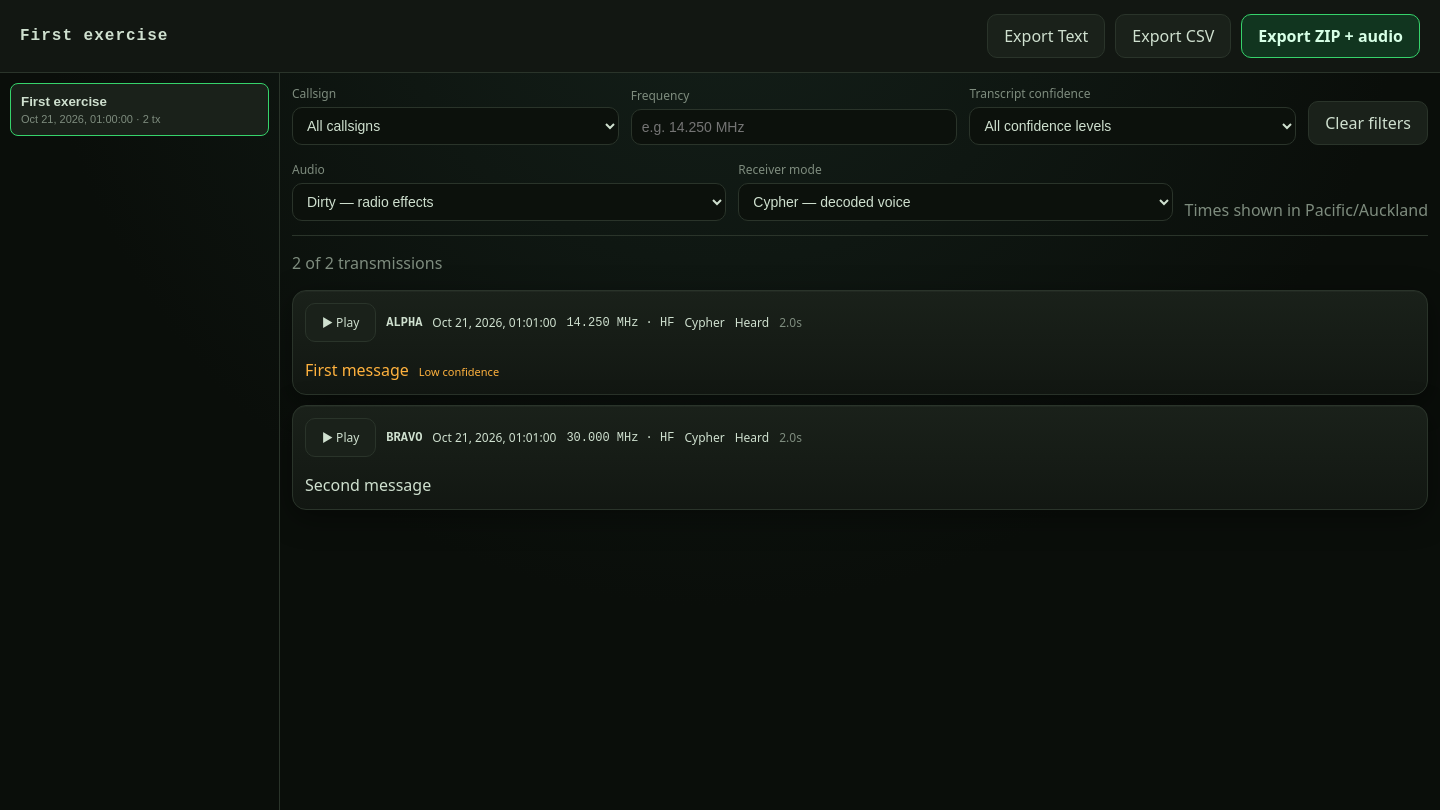
Test: AarReview › plays only one recording, supplies native seek controls and switches render modes
The width and height of the screenshot is (1440, 810).
Expected: the text "First message" is shown, 305,359 -> 409,381
Click the button with aria-label "Play recording from ALPHA" at [341, 322], box 305,303 -> 376,342
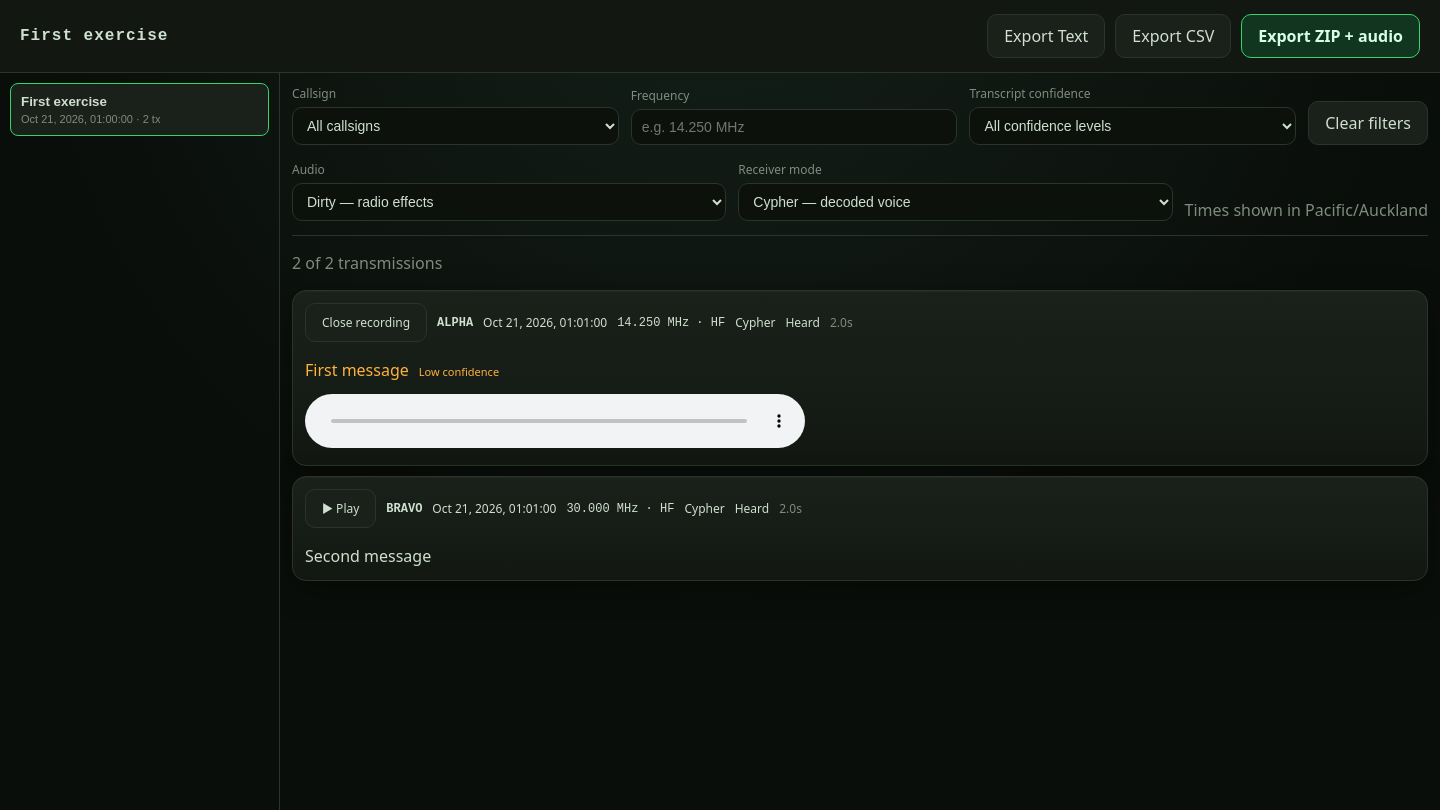
Select "Clean — original microphone" in the dropdown named "Playback audio" at [509, 202], box 292,183 -> 726,221
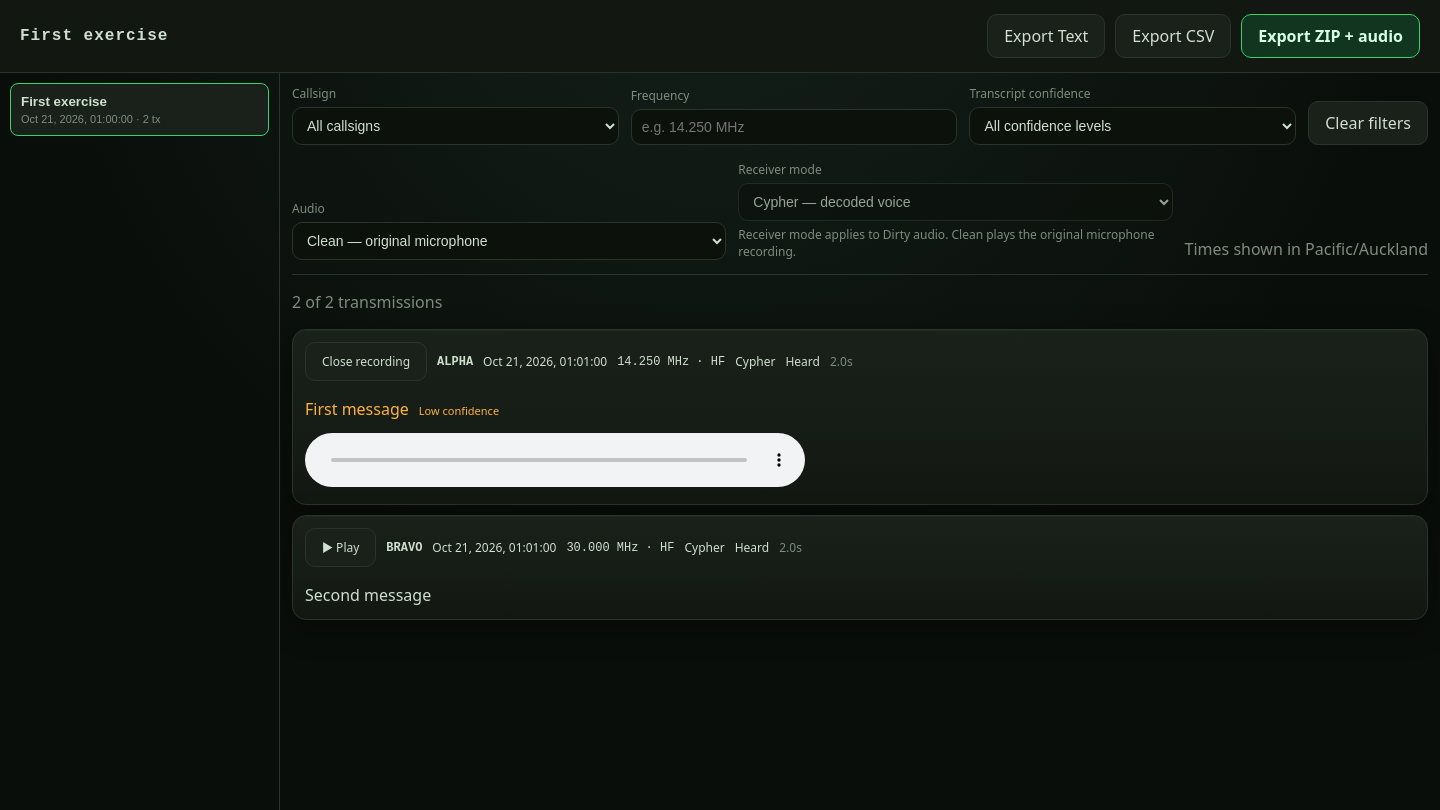
Expected: the dropdown named "Playback receiver mode" is disabled, 738,183 -> 1173,221
Expected: the text "Receiver mode applies to Dirty audio" is shown, 738,226 -> 1154,260
Select "Dirty — radio effects" in the dropdown named "Playback audio" at [509, 241], box 292,222 -> 726,260
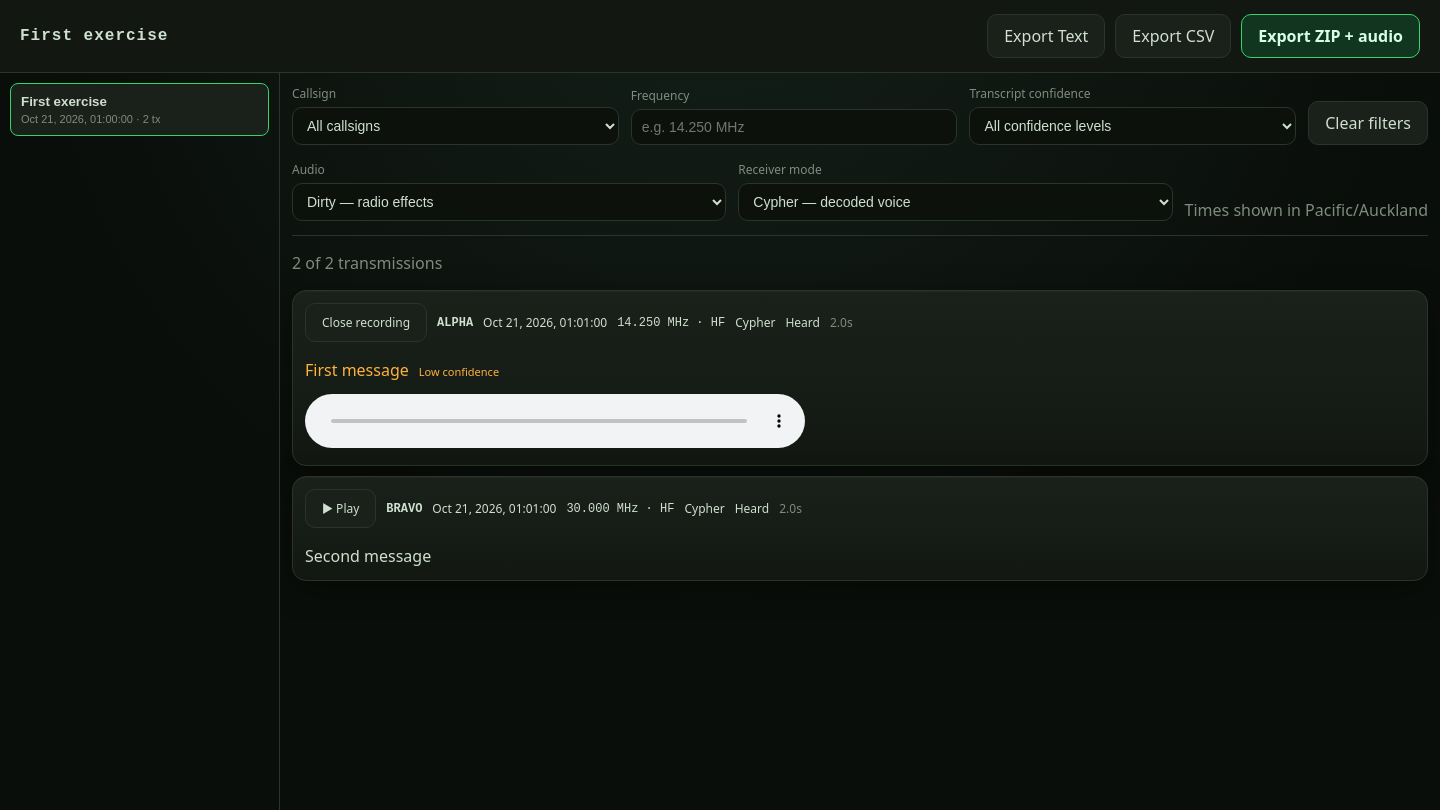
Expected: the dropdown named "Playback receiver mode" is enabled
Select "Plain — cypher heard as hash" in the dropdown named "Playback receiver mode" at [955, 202], box 738,183 -> 1173,221
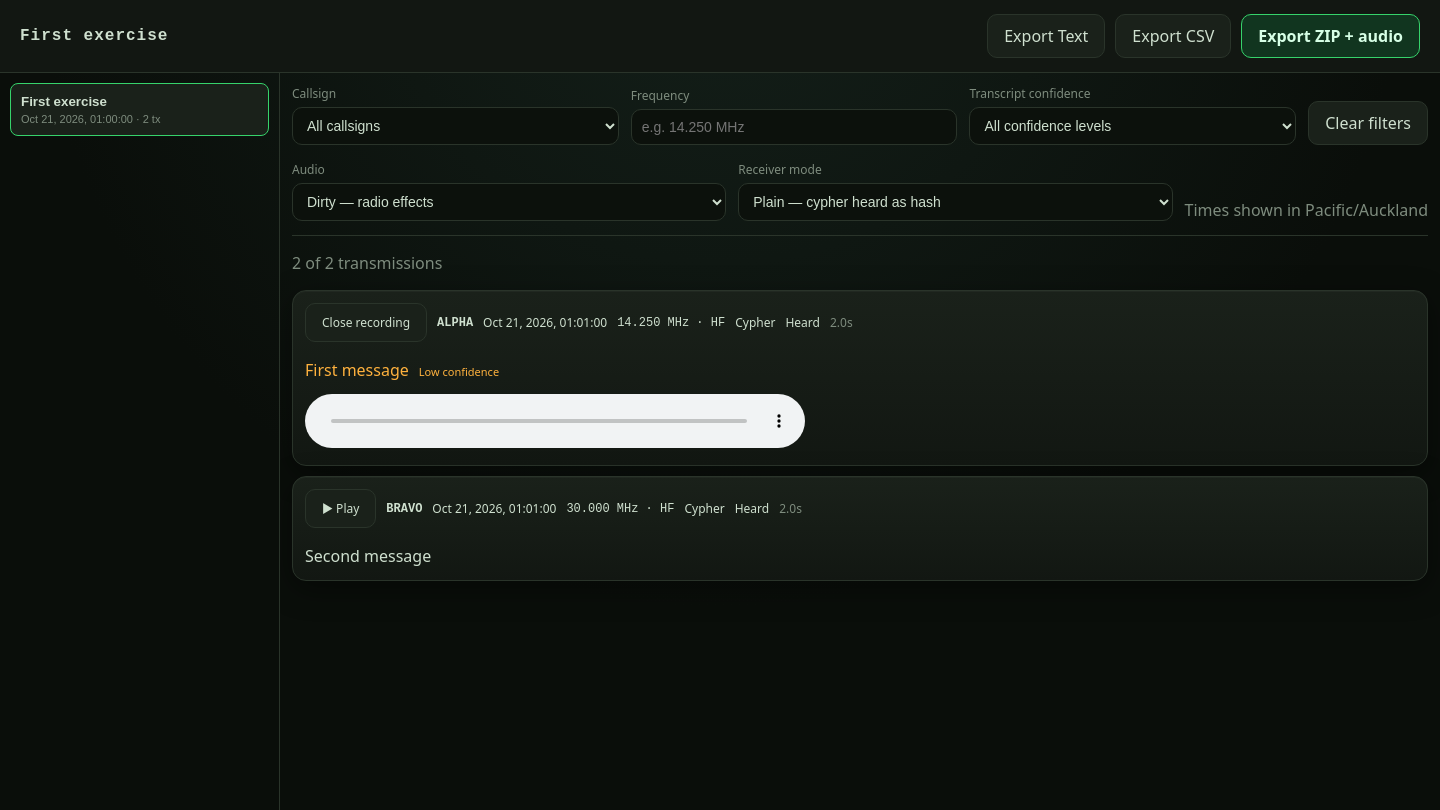
Click the button with aria-label "Play recording from BRAVO" at [341, 508], box 305,489 -> 376,528
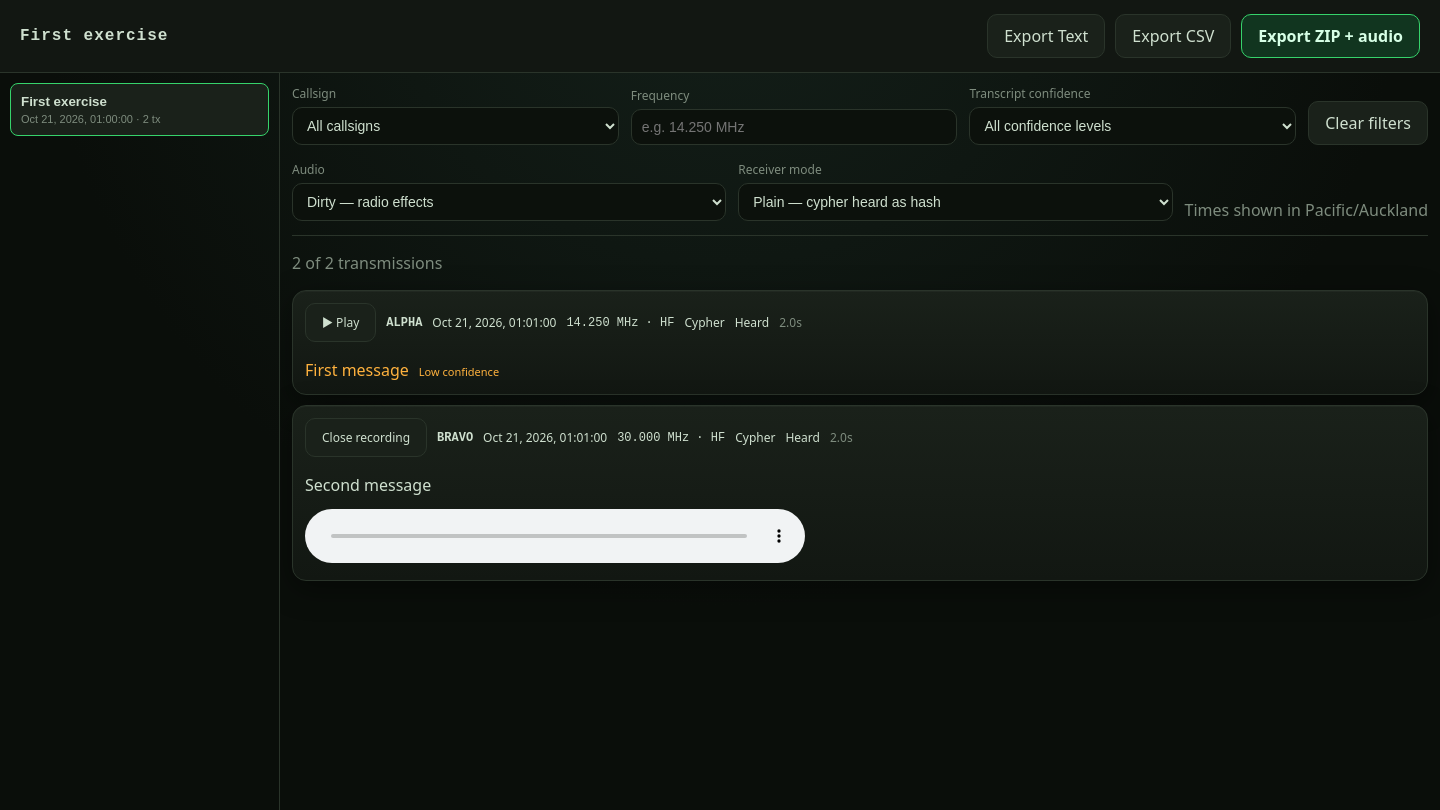
Expected: the text "Oct 21, 2026, 01:01:00" next to "ALPHA" is shown, 432,314 -> 556,331
Expected: the element named "Recording from BRAVO" is shown, 305,509 -> 805,563
